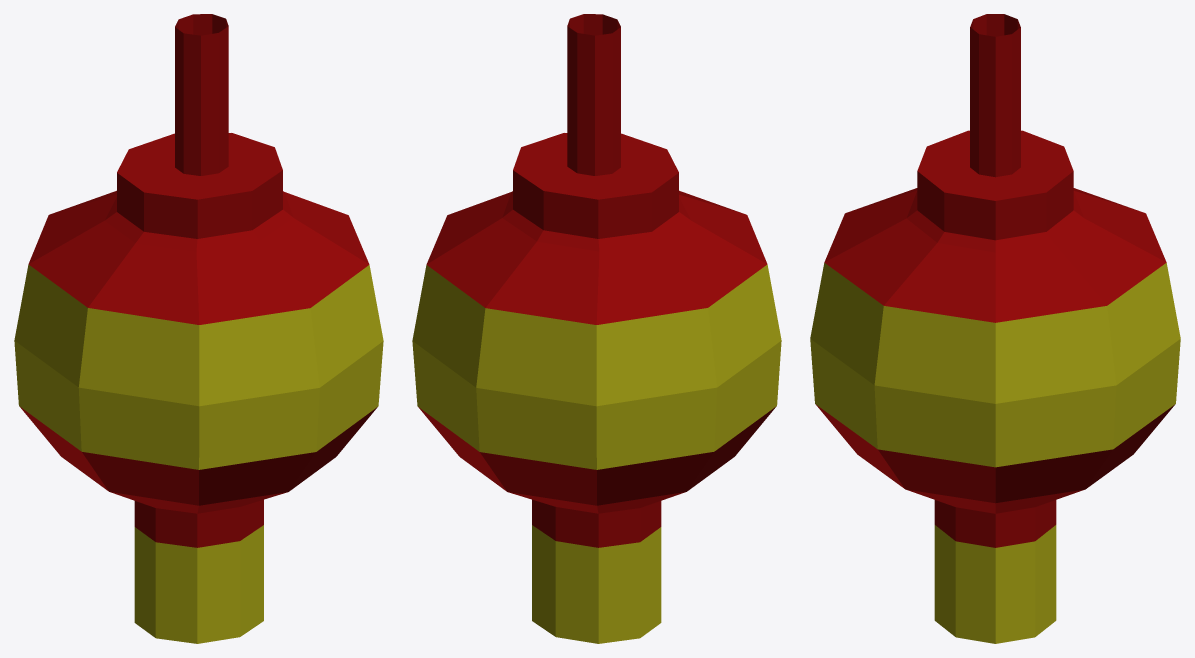
Rendered from chinese_lantern.fbx.
3 renders of one model, left to right at view 1: azimuth 30°, elevation 25°; view 2: azimuth 150°, elevation 25°; view 3: azimuth 270°, elevation 25°, orthographic.
Parts seen in each view (by area): view 1: main_lantern1; view 2: main_lantern1; view 3: main_lantern1.
Boxes of the visible parts, x1=… form: main_lantern1: x1=14, y1=14, x2=383, y2=643; main_lantern1: x1=412, y1=14, x2=781, y2=643; main_lantern1: x1=810, y1=14, x2=1180, y2=643.
Size of the model in its own units: 2.94 by 5.28 by 3.
